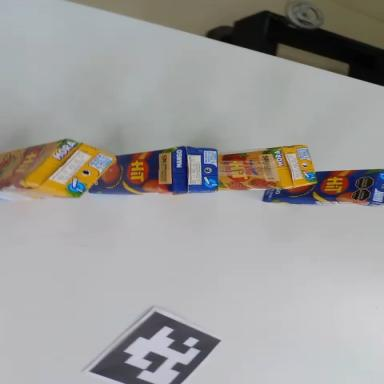HIT-MANGO: (88, 144, 219, 197), (262, 169, 383, 206)
HIT-MORA: (0, 136, 118, 201), (219, 145, 315, 189)
cara_F: (0, 131, 75, 190), (88, 147, 175, 194), (262, 169, 379, 202), (217, 149, 284, 189)
